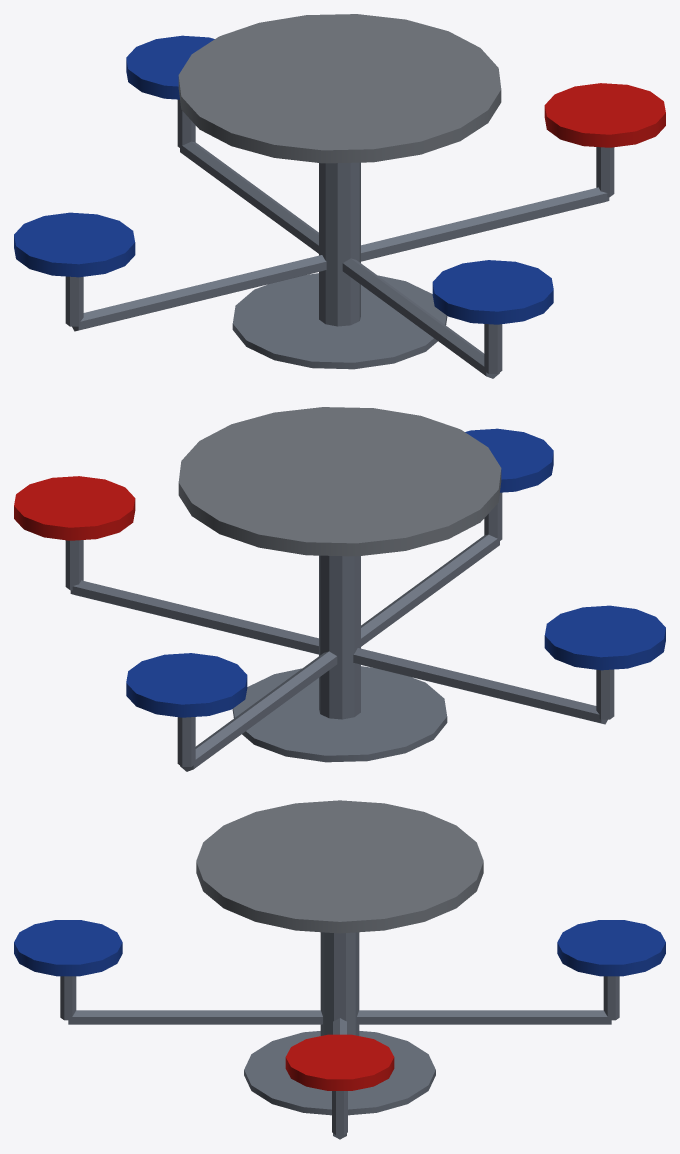
Rendered from justice.prison.visit_table.glb.
The picture shows the model from 3 angles, top to bottom: view 1: azimuth 30°, elevation 25°; view 2: azimuth 150°, elevation 25°; view 3: azimuth 270°, elevation 25°; orthographic projection. The views are drawn at different scales.
Parts seen in each view (by area): view 1: main__laminate_grey, main__steel_painted, main__plastic_blue, main__plastic_red; view 2: main__laminate_grey, main__steel_painted, main__plastic_blue, main__plastic_red; view 3: main__laminate_grey, main__steel_painted, main__plastic_blue, main__plastic_red.
Boxes of the visible parts, x1,y1,x2,y2 form: main__laminate_grey: (178,14,501,163); main__steel_painted: (65,99,614,378); main__plastic_blue: (14,35,553,324); main__plastic_red: (544,83,665,147); main__laminate_grey: (178,407,501,556); main__steel_painted: (65,492,614,771); main__plastic_blue: (126,428,665,717); main__plastic_red: (14,476,135,540); main__laminate_grey: (196,800,483,933); main__steel_painted: (60,932,619,1139); main__plastic_blue: (14,920,665,976); main__plastic_red: (285,1034,394,1090).
Size of the model in its own units: 2.03 by 0.74 by 2.04.
